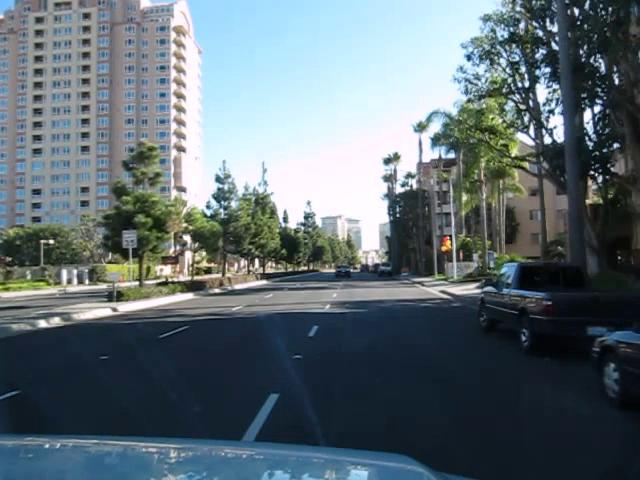speedLimit35: (121, 228, 138, 249)
